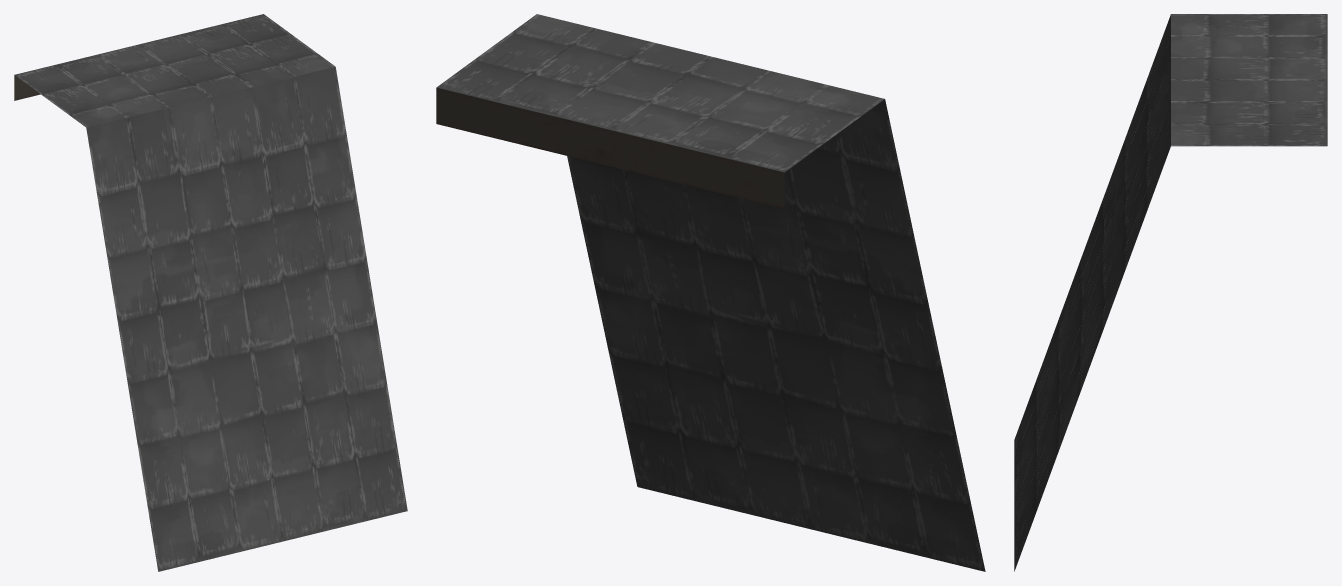
The model's file is roof_slate_center.glb.
3 views of the same model, side by side, from view 1: azimuth 30°, elevation 25°; view 2: azimuth 150°, elevation 25°; view 3: azimuth 270°, elevation 25° (orthographic). The views are drawn at different scales.
Parts seen in each view (by area): view 1: Roof_Slate_Center; view 2: Roof_Slate_Center; view 3: Roof_Slate_Center.
Boxes of the visible parts, x1=… form: Roof_Slate_Center: x1=14, y1=14, x2=407, y2=571; Roof_Slate_Center: x1=436, y1=14, x2=985, y2=571; Roof_Slate_Center: x1=1014, y1=14, x2=1327, y2=571.
Bounding box in the file's own units: 2 × 3 × 2.
2 materials, 2 textured.
